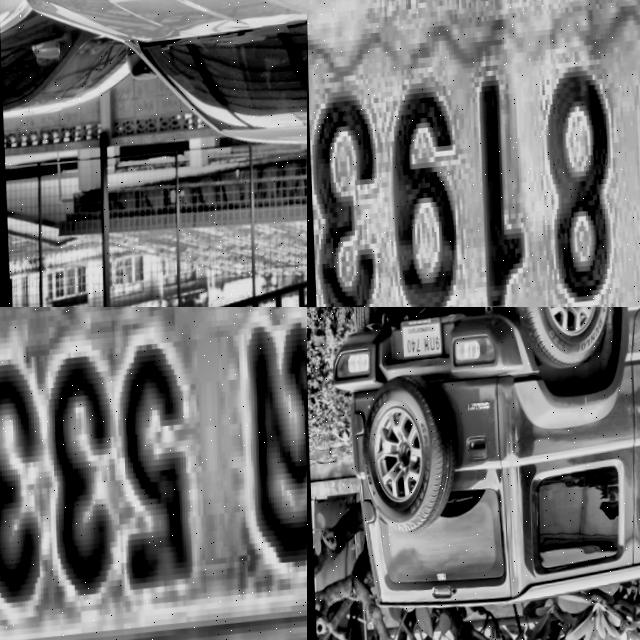license-plate: (307, 0, 640, 307), (0, 307, 307, 640), (398, 314, 442, 362)
